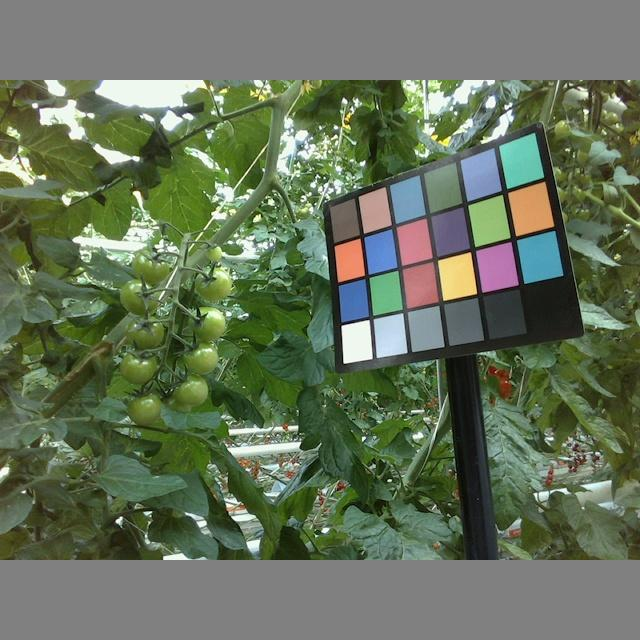green: (179, 338, 219, 377), (187, 302, 227, 340), (121, 278, 159, 317), (118, 349, 160, 384), (166, 372, 208, 406), (193, 265, 232, 301), (124, 391, 164, 426), (128, 313, 164, 350), (131, 251, 169, 284), (204, 243, 224, 262)
